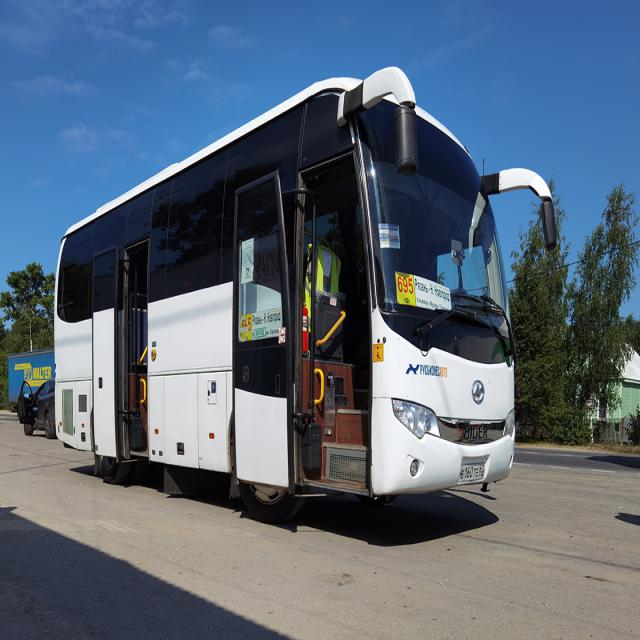number-of-bus: (398, 272, 416, 298)
